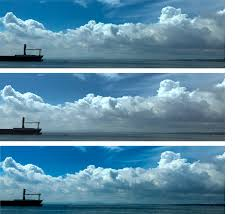sky: (1, 147, 224, 204), (1, 73, 224, 130), (1, 1, 224, 58)
